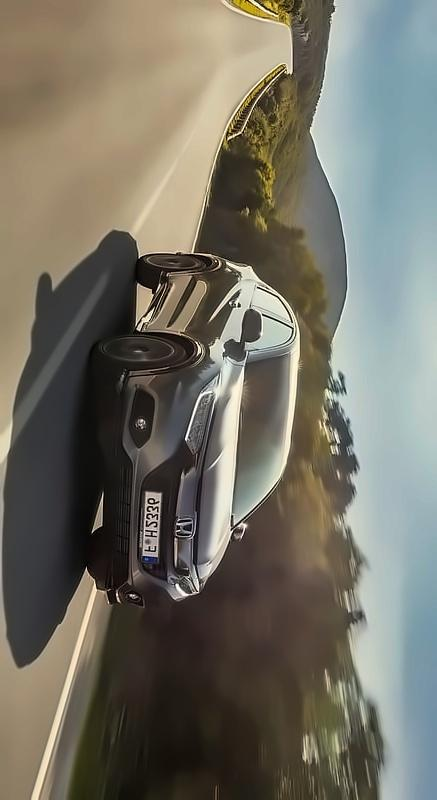Car hood: (198, 356, 245, 584)
Driver-s door - -F-R-: (143, 313, 305, 357)
Fender - -F-R-: (132, 326, 251, 384)
Front bumper: (89, 360, 190, 611)
Headlight - -L-: (171, 558, 207, 604)
Headlight - -R-: (181, 368, 226, 458)
Passenger-s door - -R-R-: (148, 267, 296, 313)
Side bumper - -R-: (131, 263, 173, 337)
Side mirror - -L-: (223, 517, 254, 547)
Side mirror - -R-: (236, 305, 267, 350)
